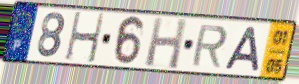6: (112, 14, 146, 67)
8: (36, 11, 67, 59)
A: (223, 25, 261, 73)
H: (143, 16, 189, 71), (64, 10, 107, 65)
R: (189, 24, 230, 70)
